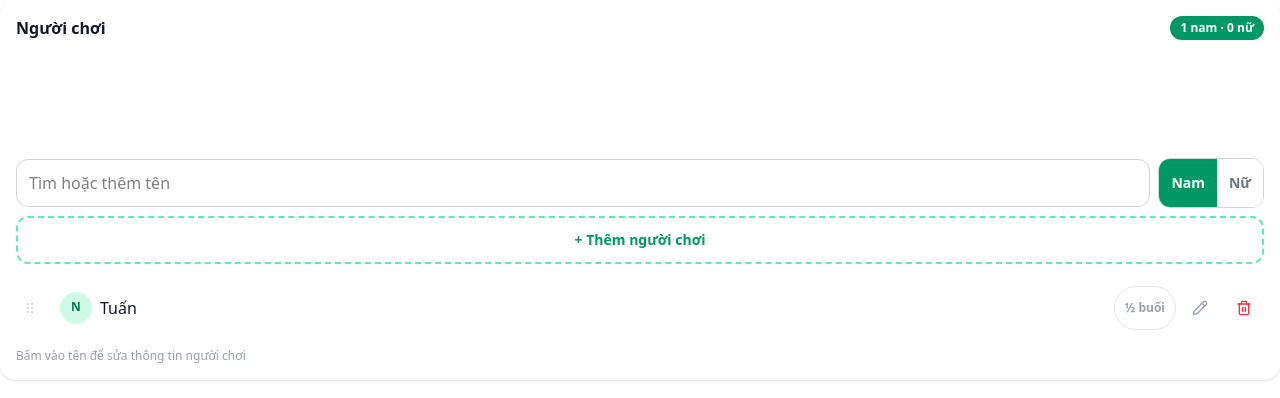
Scenario: half-session pill toggles in ratio mode
Step 1. Click the button with aria-label "½ buổi Tuấn" → click(1145, 308), box [1114, 286, 1176, 330]
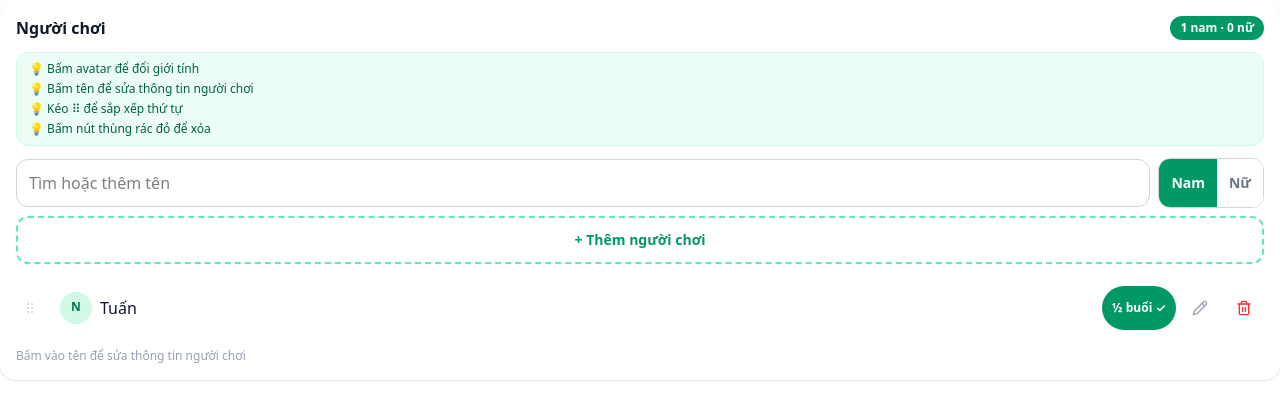
Expected: the button "½ buổi ✓" is shown, [1102, 286, 1176, 330]
